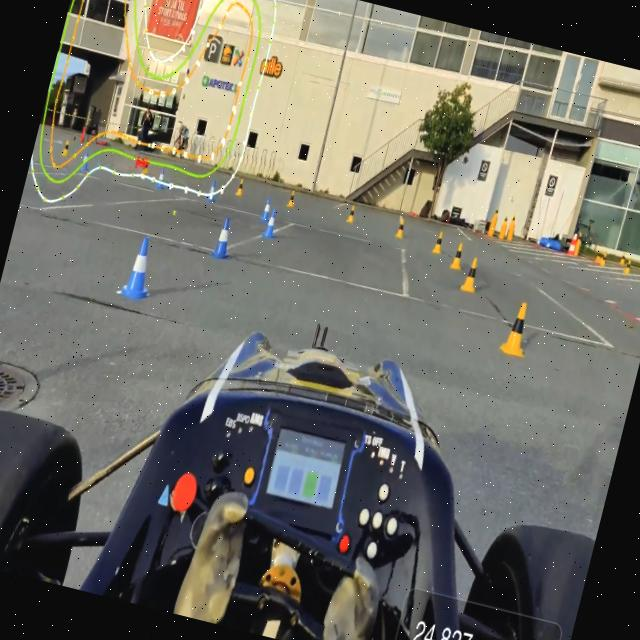blue_cone: (114, 228, 168, 311), (0, 289, 18, 422), (206, 212, 240, 264), (260, 205, 282, 242), (258, 193, 276, 224), (152, 165, 170, 193), (205, 175, 221, 203), (78, 148, 92, 173)
large_orange_cone: (564, 230, 580, 260)
yellow_cone: (494, 295, 541, 363), (456, 252, 484, 298), (428, 225, 449, 258), (448, 240, 468, 272), (392, 212, 409, 244), (58, 134, 74, 160), (284, 186, 298, 211), (344, 202, 358, 225), (234, 174, 246, 197)
